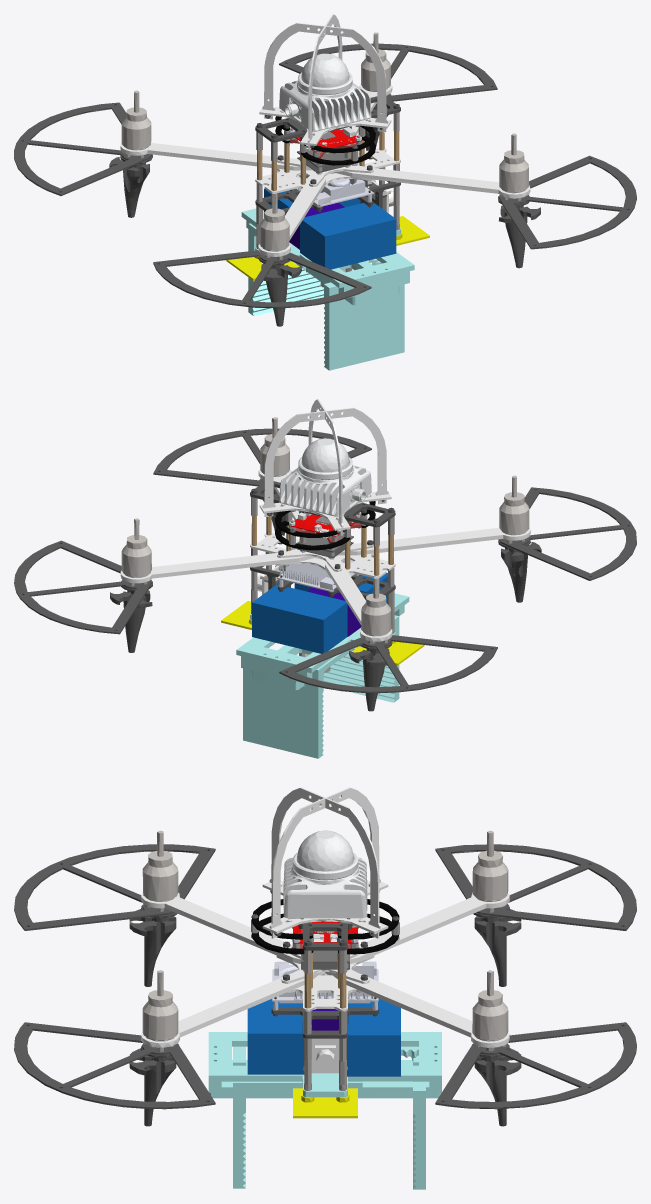
The model's file is drone_downward.dae.
3 renders of one model, top to bottom at view 1: azimuth 30°, elevation 25°; view 2: azimuth 150°, elevation 25°; view 3: azimuth 270°, elevation 25°, orthographic. The views are drawn at different scales.
Parts seen in each view (by area): view 1: Shape_IndexedFaceSet.425; view 2: Shape_IndexedFaceSet.425; view 3: Shape_IndexedFaceSet.425.
Part boxes in pixels (x1,y1,x2,y2): Shape_IndexedFaceSet.425: (14, 14, 636, 370); Shape_IndexedFaceSet.425: (14, 399, 636, 758); Shape_IndexedFaceSet.425: (14, 787, 636, 1189).
Size of the model in its own units: 0.4807 by 0.4807 by 0.3133.
